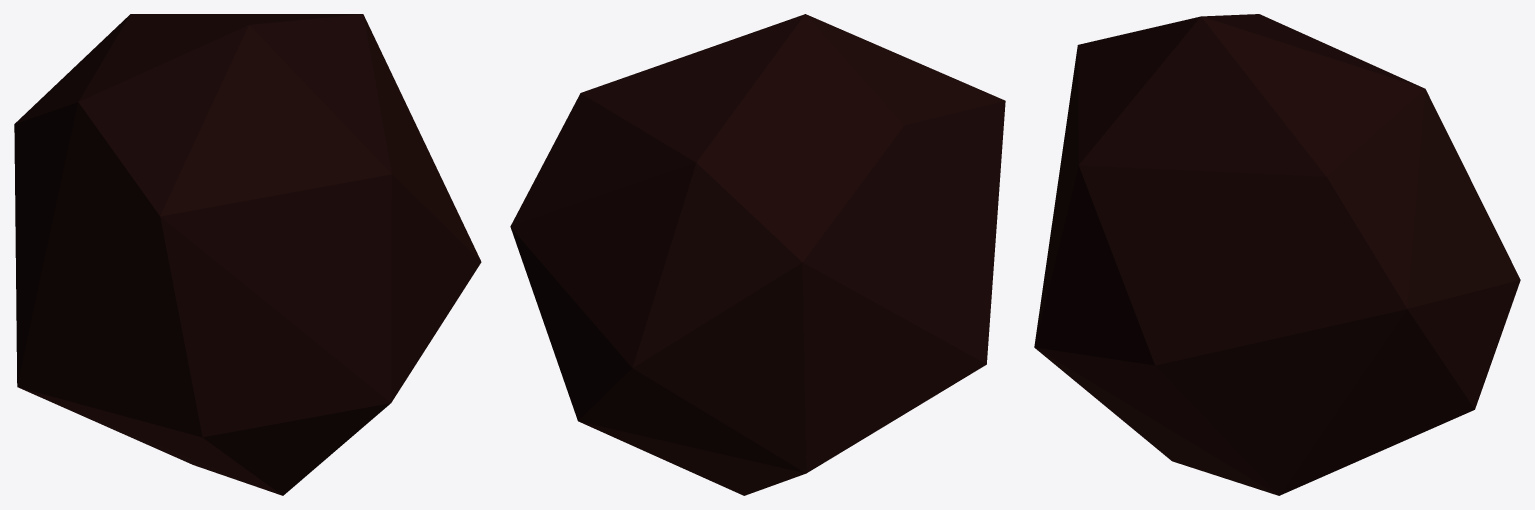
File: small_stones.fbx
3 renders of one model, left to right at view 1: azimuth 30°, elevation 25°; view 2: azimuth 150°, elevation 25°; view 3: azimuth 270°, elevation 25°, orthographic. The views are drawn at different scales.
Parts seen in each view (by area): view 1: small_stone_4; view 2: small_stone_4; view 3: small_stone_4.
Boxes of the visible parts, x1=… form: small_stone_4: x1=14, y1=14, x2=481, y2=495; small_stone_4: x1=510, y1=14, x2=1005, y2=495; small_stone_4: x1=1034, y1=14, x2=1520, y2=495.
Bounding box in the file's own units: 13.99 × 15.09 × 14.54.
